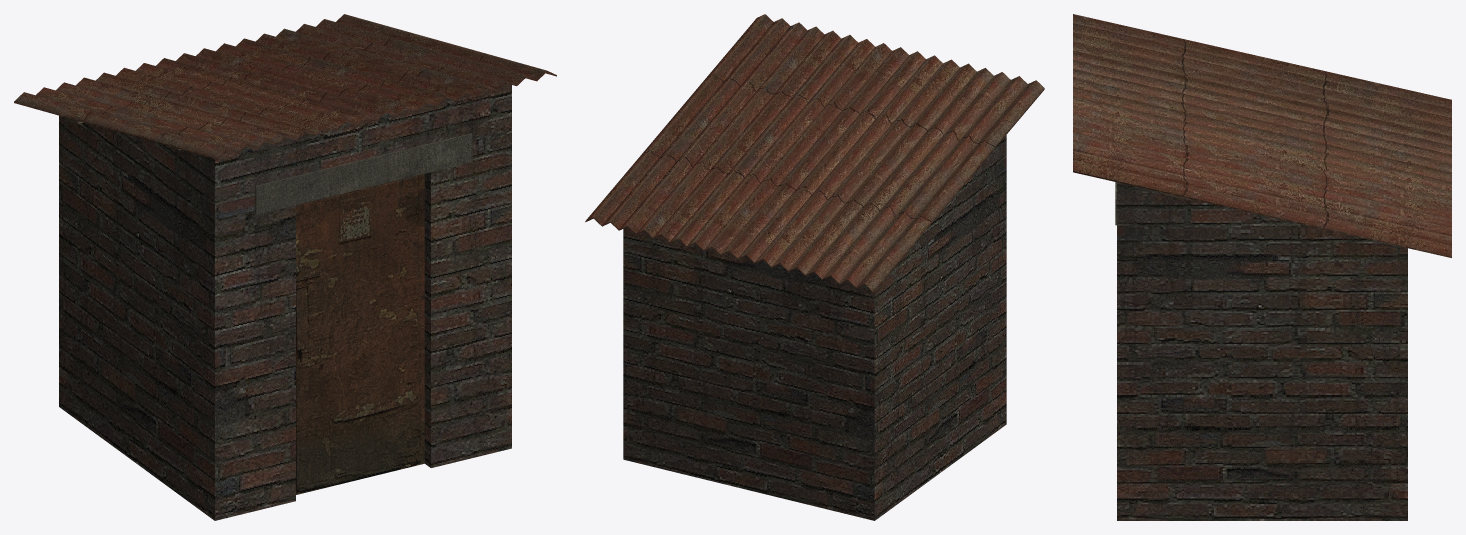
The model's file is shed_ax_1.glb.
3 renders of one model, left to right at view 1: azimuth 30°, elevation 25°; view 2: azimuth 150°, elevation 25°; view 3: azimuth 270°, elevation 25°, orthographic. The views are drawn at different scales.
Visible parts, largest first — view 1: shed_ax_1, door_hr_7; view 2: shed_ax_1; view 3: shed_ax_1.
Part boxes in pixels (x1,y1,x2,y2): shed_ax_1: [14, 14, 556, 520]; door_hr_7: [296, 174, 424, 494]; shed_ax_1: [585, 14, 1044, 520]; shed_ax_1: [1073, 14, 1451, 520].
Bounding box in the file's own units: 2.52 × 2.77 × 2.6.
5 materials, 5 textured.
